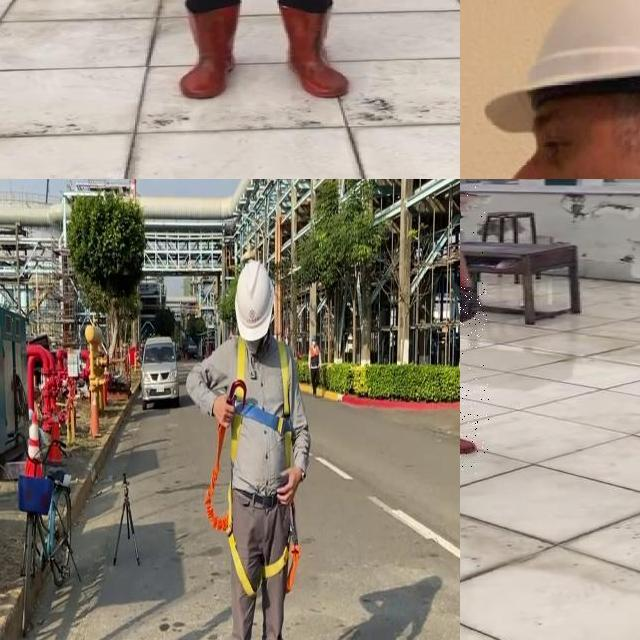Harness: (205, 426, 301, 618), (228, 337, 293, 466)
boots: (174, 4, 240, 100), (282, 5, 348, 98), (460, 383, 491, 456)
person: (109, 0, 389, 110)
